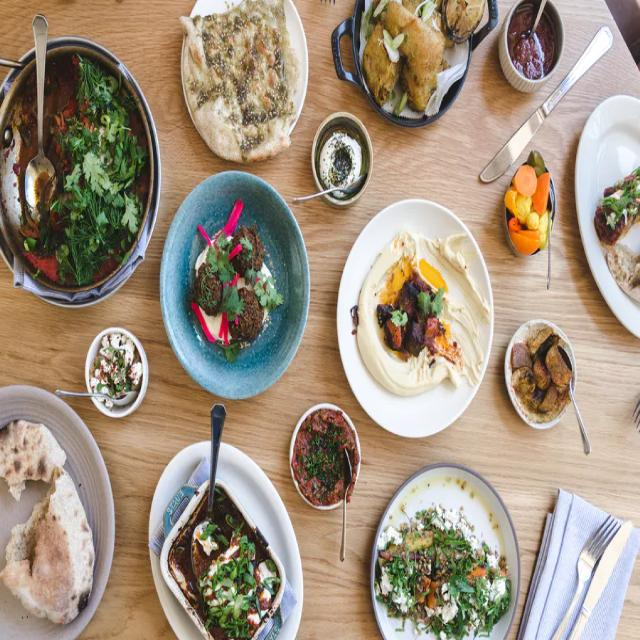hummus: (344, 230, 489, 402)
